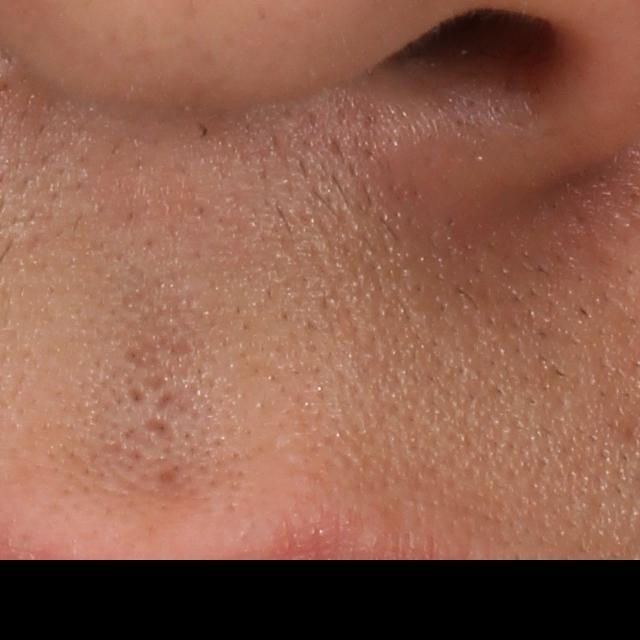atrophic_scar: (120, 328, 194, 407), (140, 417, 178, 444), (153, 388, 181, 411), (157, 469, 180, 485)
